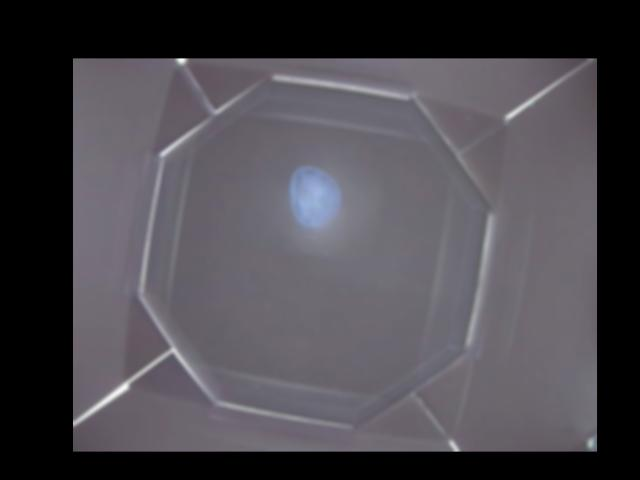Pebble: (291, 164, 342, 227)
